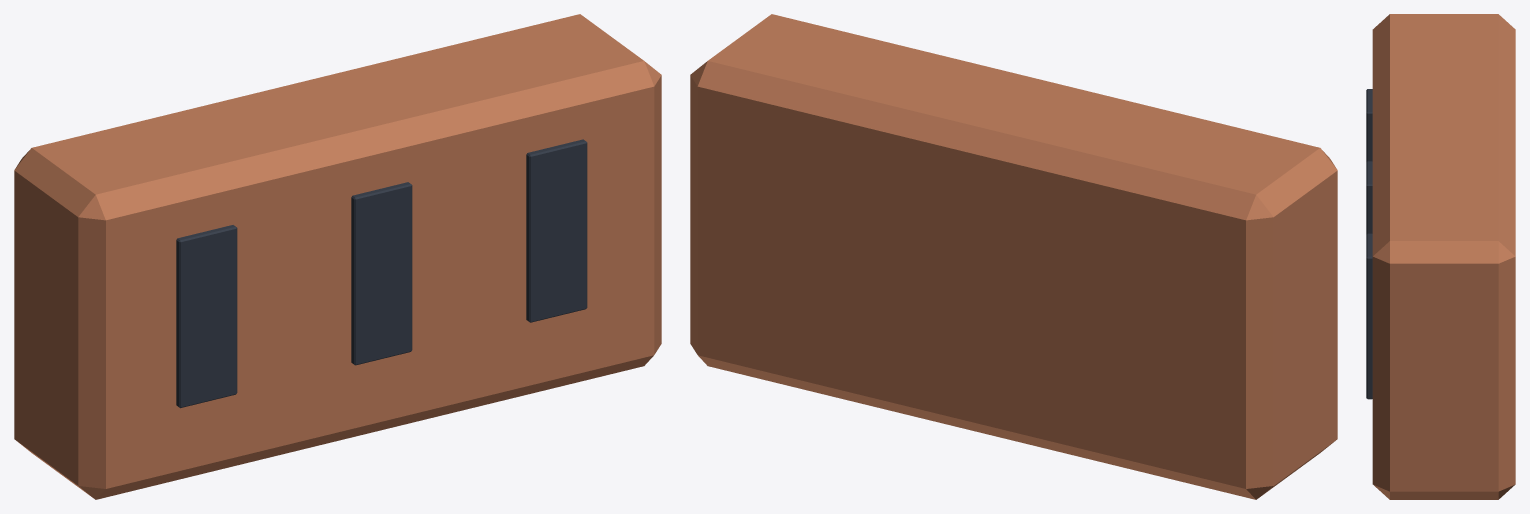
The model's file is street_039_seed11.glb.
3 views of the same model, side by side, from view 1: azimuth 30°, elevation 25°; view 2: azimuth 150°, elevation 25°; view 3: azimuth 270°, elevation 25° (orthographic). The views are drawn at different scales.
Parts seen in each view (by area): view 1: street_039_seed11; view 2: street_039_seed11; view 3: street_039_seed11.
Boxes of the visible parts, left/top/right/bottom form: street_039_seed11: left=14, top=14, right=661, bottom=499; street_039_seed11: left=690, top=14, right=1337, bottom=499; street_039_seed11: left=1366, top=14, right=1515, bottom=499.
Bounding box in the file's own units: 2 × 1 × 0.5225.
